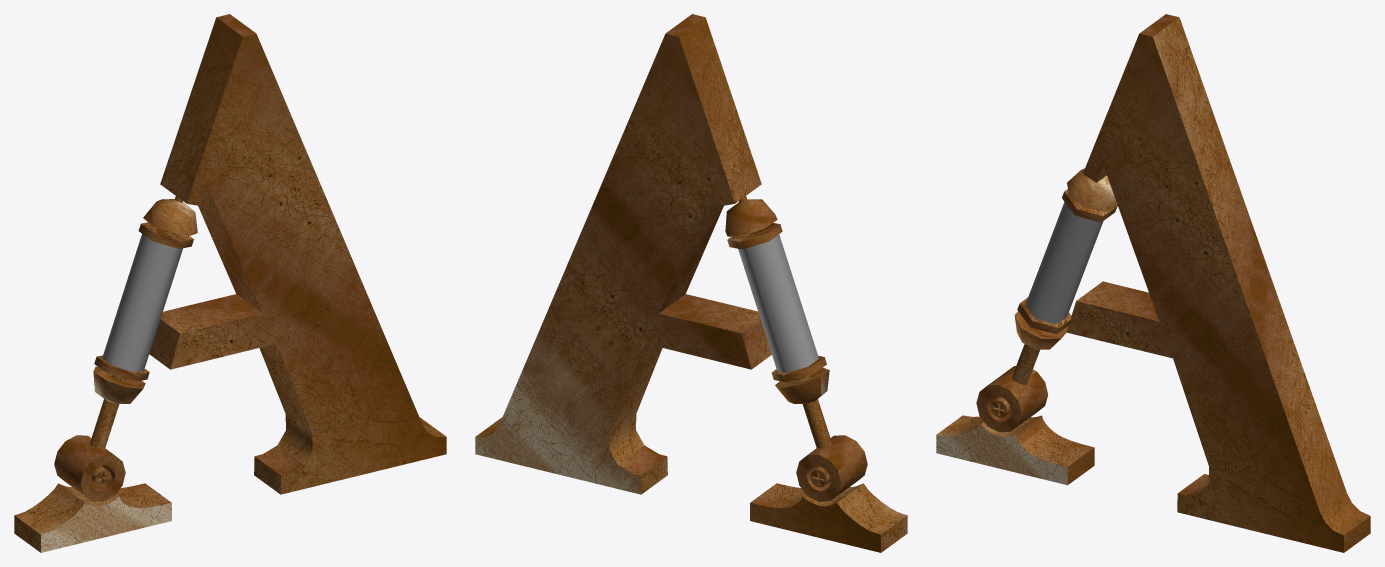
3 renders of one model, left to right at view 1: azimuth 30°, elevation 25°; view 2: azimuth 150°, elevation 25°; view 3: azimuth 330°, elevation 25°, orthographic.
Visible parts, largest first — view 1: A, Tube039, Y_Elements_031, Sphere_056, Sphere_053, Tube_383, Tube038, Tube041; view 2: A, Tube039, Y_Elements_031, Sphere_056, Sphere_053, Tube_383, Tube038, Tube041; view 3: A, Tube039, Y_Elements_031, Sphere_056, Sphere_053, Tube_383, Tube041, Tube038.
Boxes of the visible parts, left/top/right/bottom form: A: left=14, top=14, right=446, bottom=552; Tube039: left=102, top=234, right=182, bottom=372; Y_Elements_031: left=54, top=435, right=125, bottom=501; Sphere_056: left=143, top=199, right=197, bottom=235; Sphere_053: left=93, top=366, right=145, bottom=403; Tube_383: left=90, top=375, right=126, bottom=448; Tube038: left=138, top=222, right=193, bottom=248; Tube041: left=94, top=355, right=149, bottom=381; A: left=475, top=14, right=907, bottom=552; Tube039: left=738, top=234, right=818, bottom=372; Y_Elements_031: left=796, top=435, right=867, bottom=501; Sphere_056: left=725, top=199, right=777, bottom=236; Sphere_053: left=775, top=367, right=829, bottom=403; Tube_383: left=795, top=375, right=831, bottom=448; Tube038: left=727, top=223, right=782, bottom=249; Tube041: left=771, top=356, right=826, bottom=382; A: left=936, top=14, right=1370, bottom=552; Tube039: left=1025, top=202, right=1103, bottom=324; Y_Elements_031: left=976, top=366, right=1048, bottom=432; Sphere_056: left=1067, top=168, right=1117, bottom=211; Sphere_053: left=1014, top=311, right=1067, bottom=349; Tube_383: left=1012, top=344, right=1039, bottom=385; Tube041: left=1017, top=297, right=1071, bottom=334; Tube038: left=1062, top=189, right=1116, bottom=222.
Bounding box in the file's own units: 87.92 × 96.71 × 10.52.
2 materials, 1 textured.
